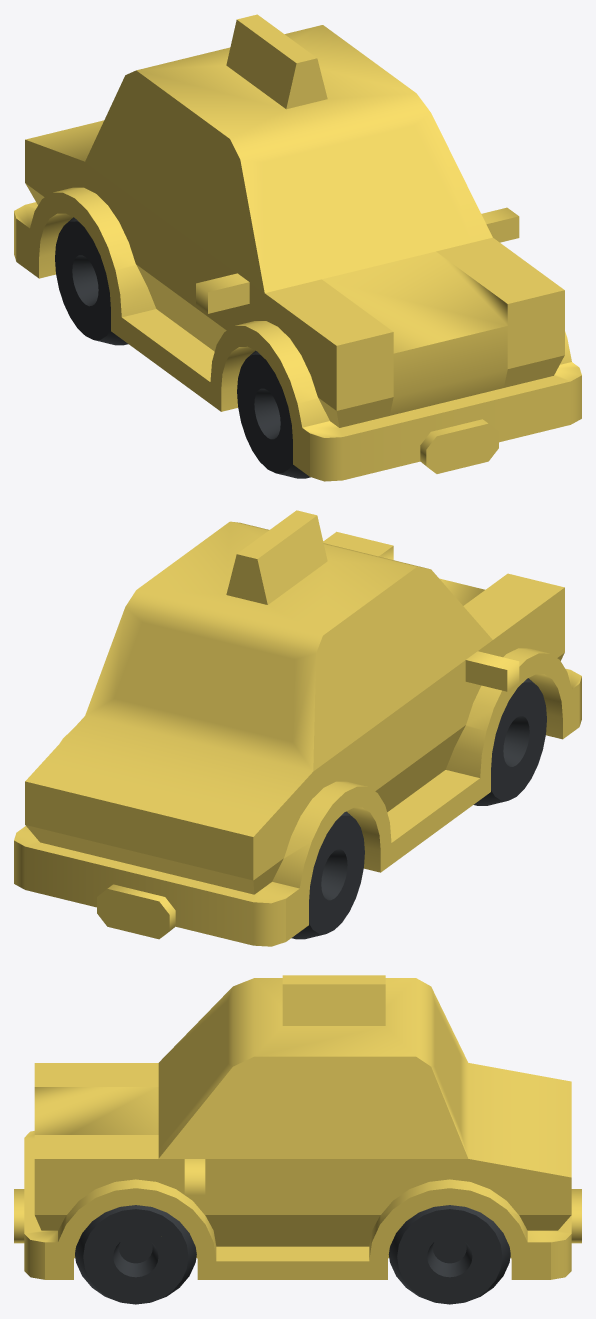
File: realcity-taxi.glb
The picture shows the model from 3 angles, top to bottom: view 1: azimuth 30°, elevation 25°; view 2: azimuth 150°, elevation 25°; view 3: azimuth 270°, elevation 25°; orthographic projection. The views are drawn at different scales.
Visible parts, largest first — view 1: body, wheel-front-right, wheel-back-right; view 2: body, wheel-back-right, wheel-front-right; view 3: body, wheel-front-left, wheel-back-left.
Part boxes in pixels (bbox=[...]): body: bbox=[14, 14, 581, 481]; wheel-front-right: bbox=[237, 350, 310, 478]; wheel-back-right: bbox=[55, 217, 128, 345]; body: bbox=[14, 510, 581, 946]; wheel-back-right: bbox=[291, 811, 364, 939]; wheel-front-right: bbox=[473, 678, 546, 805]; body: bbox=[14, 975, 581, 1279]; wheel-front-left: bbox=[75, 1205, 196, 1304]; wheel-back-left: bbox=[388, 1205, 510, 1304].
Bounding box in the file's own units: 1.5 × 1.5 × 2.75.
